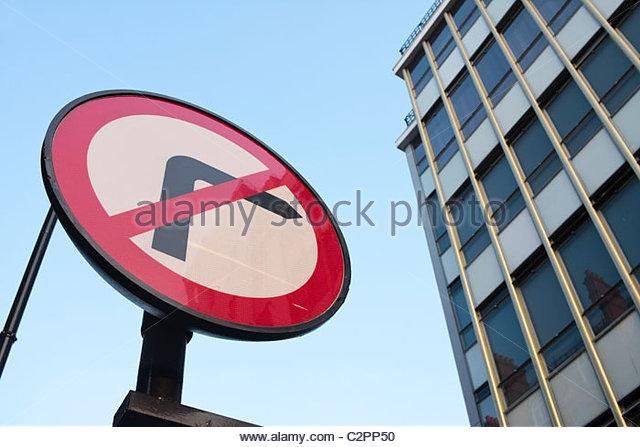no_right_turn: (41, 87, 351, 339)
